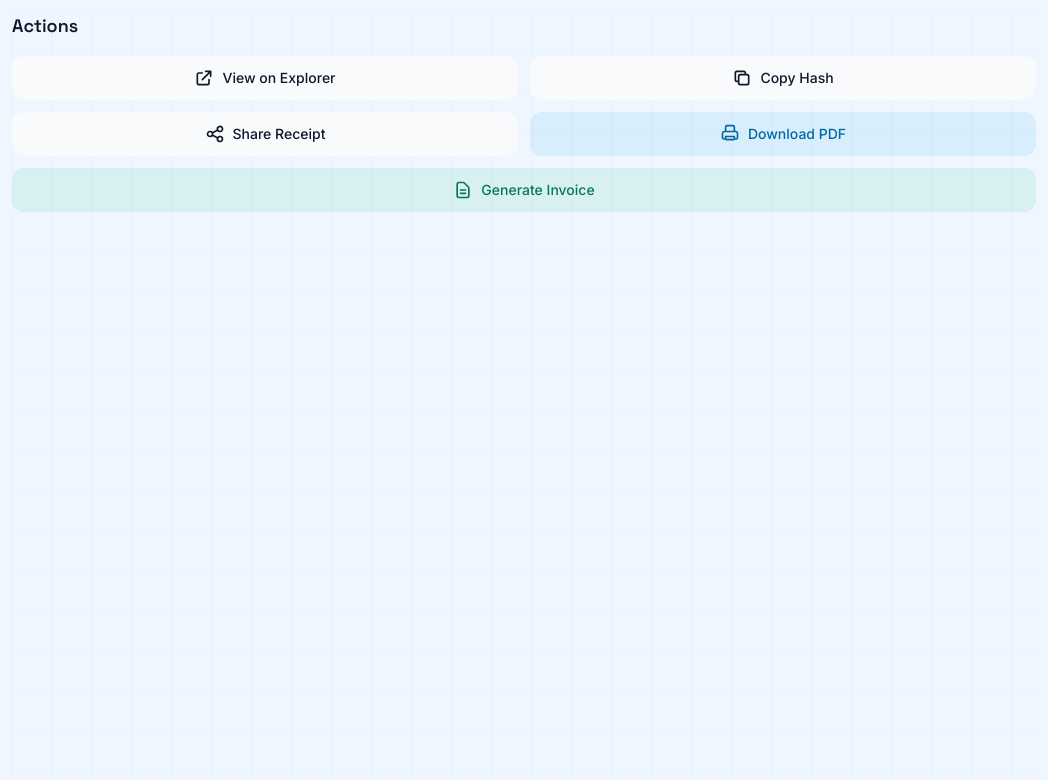
Scenario: TransactionActions › shows Copied! message after copying
Click the button "Copy Hash" at [783, 78], box [530, 56, 1036, 100]
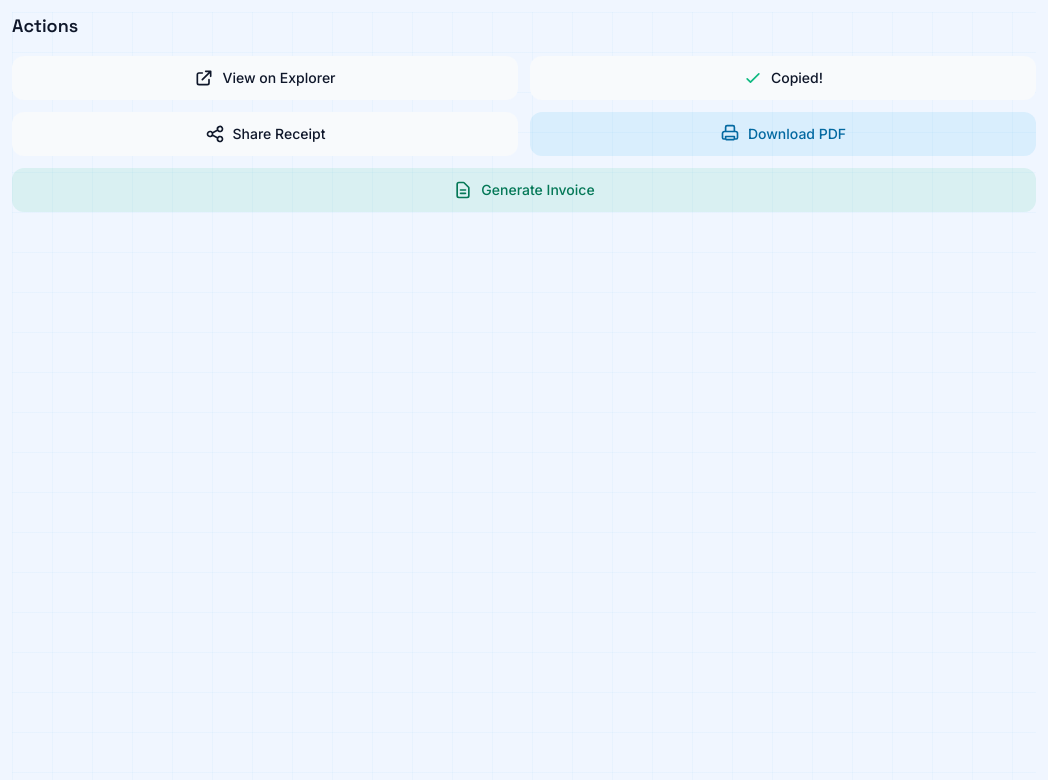
Check: the button "Copied!" is shown, box [530, 56, 1036, 100]
